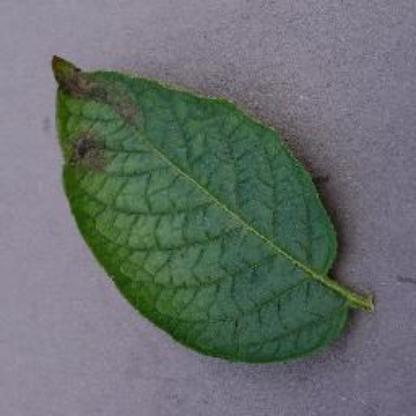Late-Blight: (46, 51, 380, 363)
